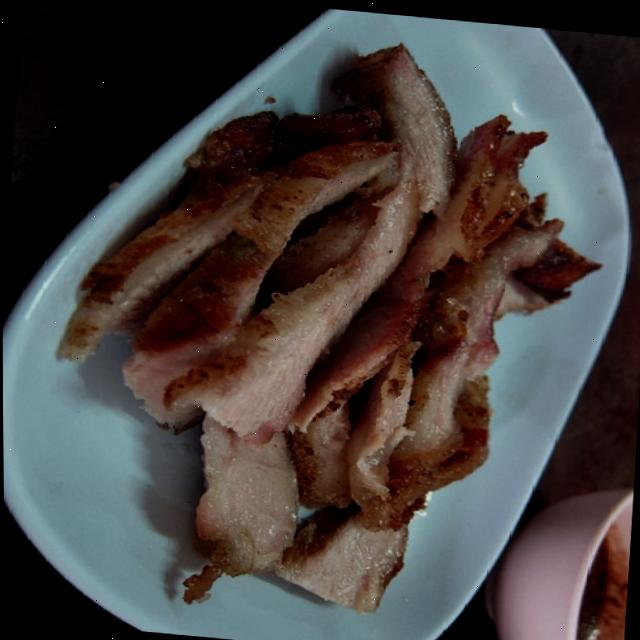猪肉菜式: (13, 12, 629, 640)
